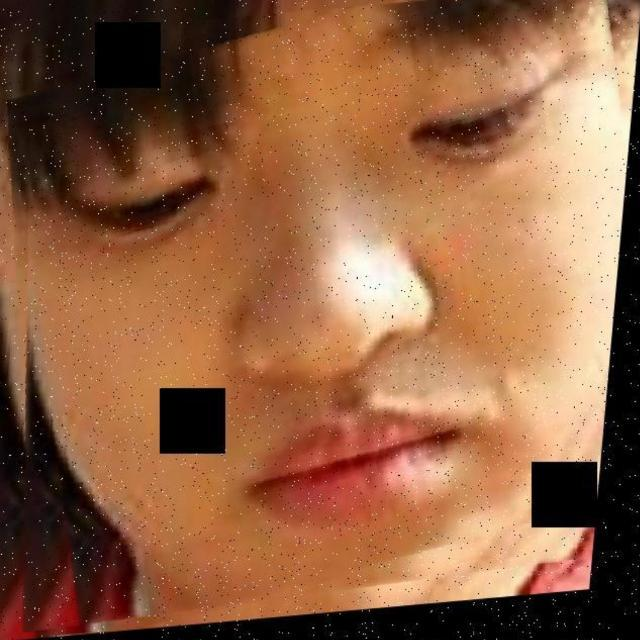sad: (34, 11, 639, 564)
